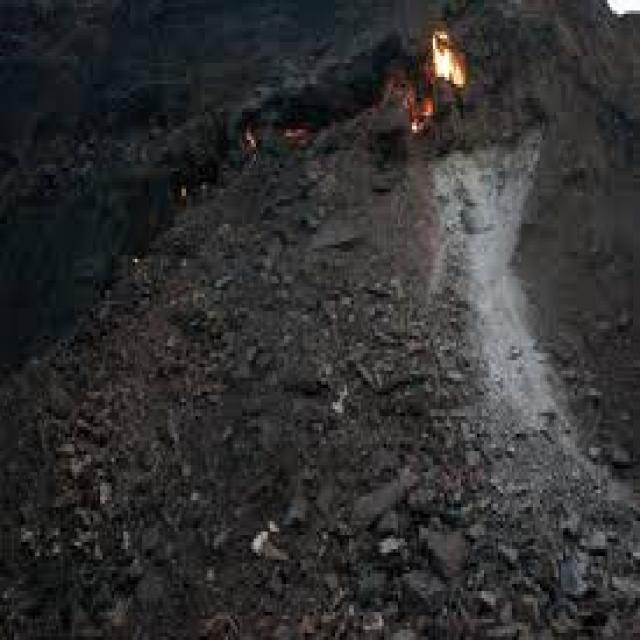fire: (431, 34, 465, 87)
